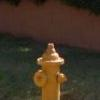Hydrant: (31, 34, 71, 100)
